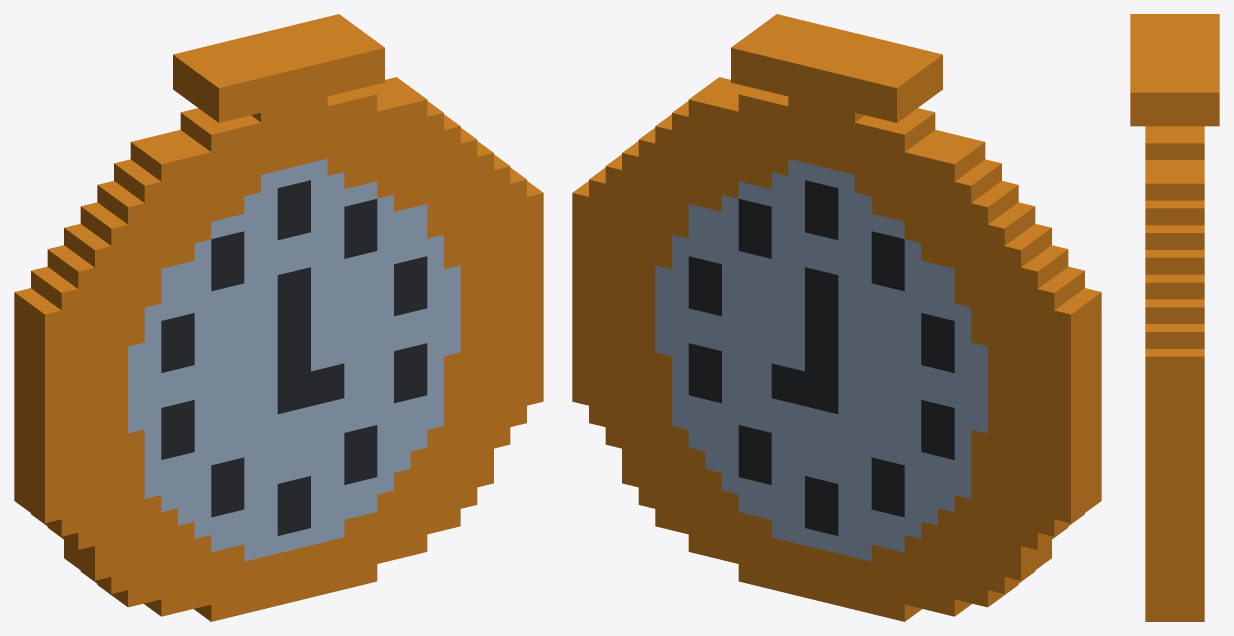
File: PocketWatch.glb
The picture shows the model from 3 angles, left to right: view 1: azimuth 30°, elevation 25°; view 2: azimuth 150°, elevation 25°; view 3: azimuth 270°, elevation 25°; orthographic projection. The views are drawn at different scales.
Visible parts, largest first — view 1: generated(Clone); view 2: generated(Clone); view 3: generated(Clone).
Part boxes in pixels (x1,y1,x2,y2): generated(Clone): (14, 14, 543, 621); generated(Clone): (572, 14, 1101, 621); generated(Clone): (1130, 14, 1219, 621).
Size of the model in its own units: 30 by 31 by 4.8.
Materials: 1 (1 with a texture image).
